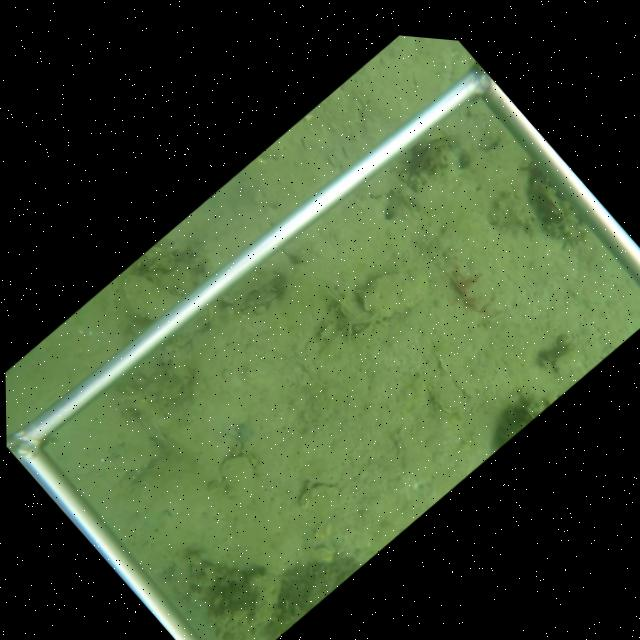Oyster-Closed: (296, 480, 343, 515)
Oyster-Indeterminate: (359, 262, 433, 322), (119, 271, 189, 322), (215, 453, 259, 500)
